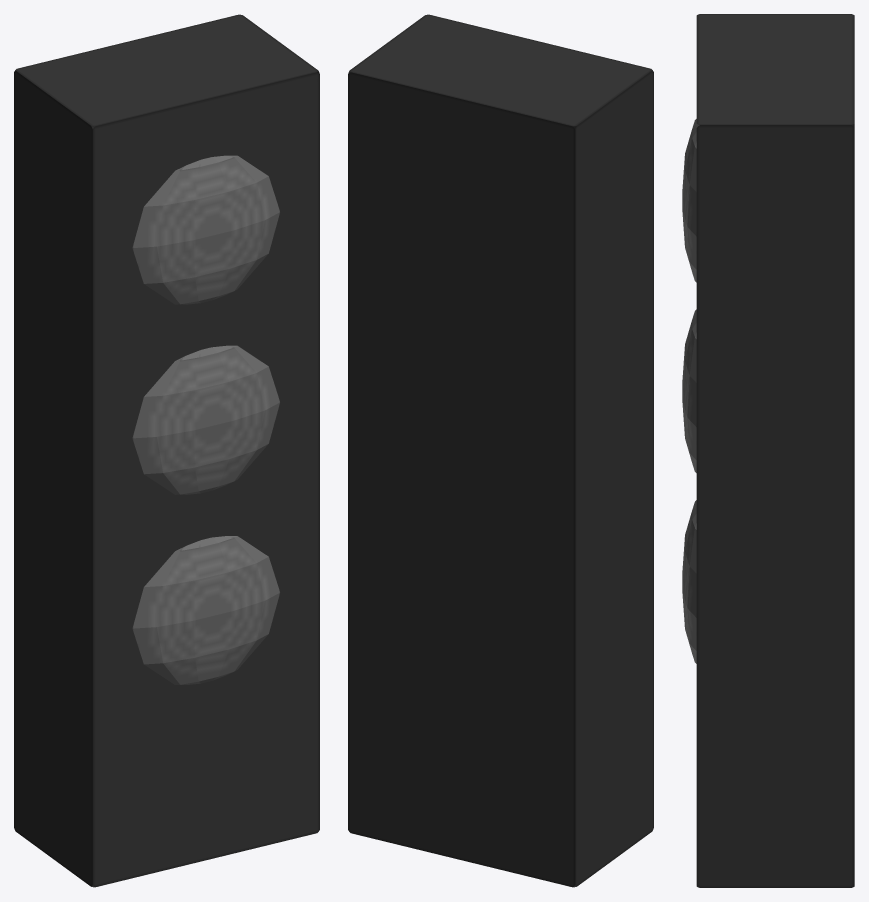
File: nyc_subway_signal_light_2g.obj
3 views of the same model, side by side, from view 1: azimuth 30°, elevation 25°; view 2: azimuth 150°, elevation 25°; view 3: azimuth 270°, elevation 25° (orthographic).
Visible parts, largest first — view 1: box, light; view 2: box; view 3: box, light.
Part boxes in pixels (x1,y1,x2,y2): box: (14,14,319,887); light: (132,155,279,684); box: (348,14,653,887); box: (696,14,854,887); light: (682,119,699,663).
Bounding box in the file's own units: 0.3125 × 1 × 0.2047.
Materials: 1 (1 with a texture image).
